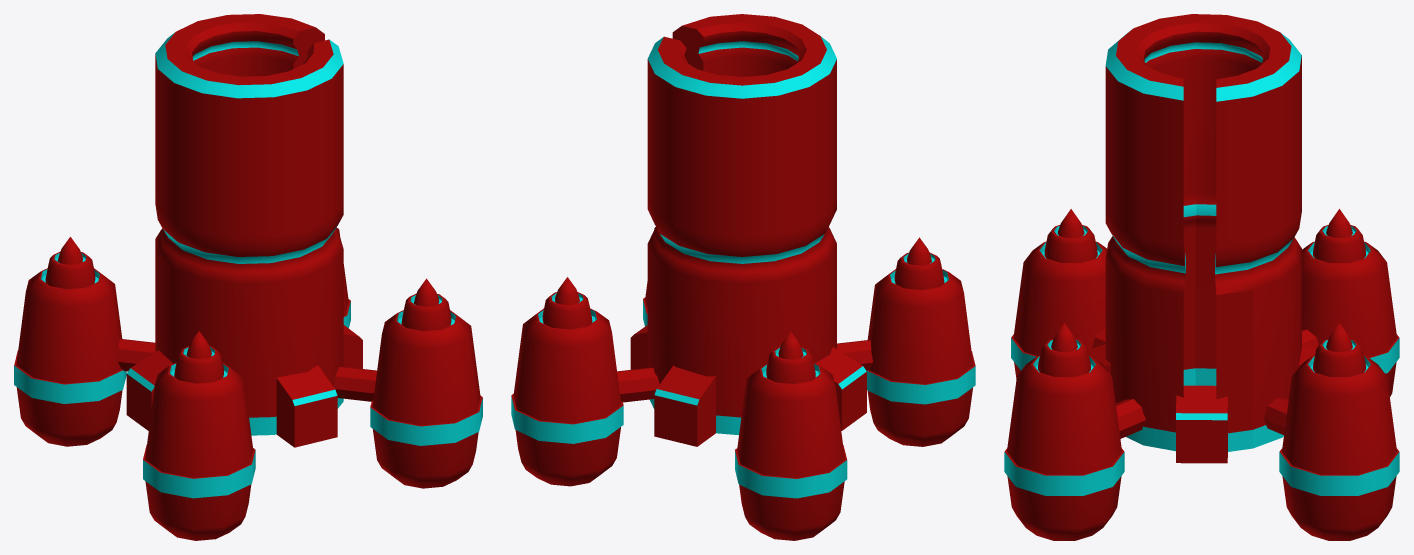
Rendered from GJ_Envrio_Kit_Buildings_HL_31-07-2019_v2.fbx.
3 renders of one model, left to right at view 1: azimuth 30°, elevation 25°; view 2: azimuth 150°, elevation 25°; view 3: azimuth 270°, elevation 25°, orthographic. The views are drawn at different scales.
Visible parts, largest first — view 1: Building_2_Cylinder_Tower1; view 2: Building_2_Cylinder_Tower1; view 3: Building_2_Cylinder_Tower1.
Part boxes in pixels (x1,y1,x2,y2): Building_2_Cylinder_Tower1: (14, 14, 482, 540); Building_2_Cylinder_Tower1: (511, 14, 975, 540); Building_2_Cylinder_Tower1: (1004, 14, 1399, 540).
Size of the model in its own units: 1428 by 1751 by 1470.
